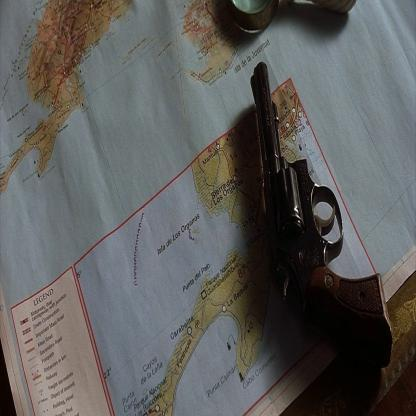gun: (248, 13, 399, 401)
